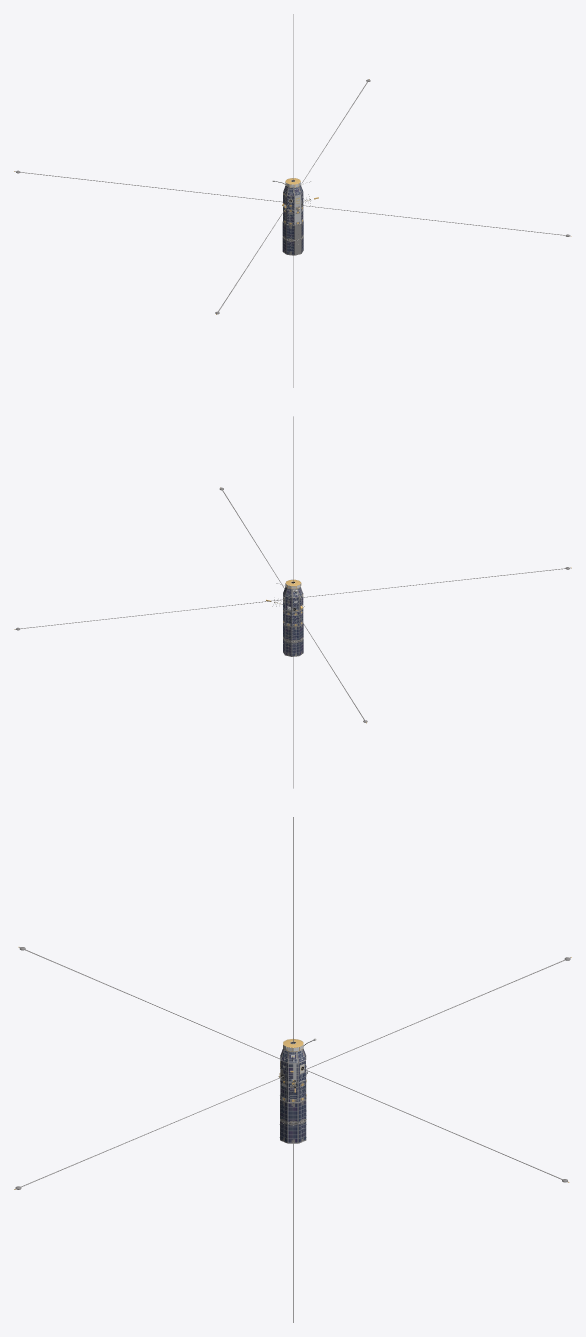
File: cnofs.glb
The picture shows the model from 3 angles, top to bottom: view 1: azimuth 30°, elevation 25°; view 2: azimuth 150°, elevation 25°; view 3: azimuth 270°, elevation 25°; orthographic projection. The views are drawn at different scales.
Parts seen in each view (by area): view 1: cnofs; view 2: cnofs; view 3: cnofs.
Part boxes in pixels (left/top/right/bottom): cnofs: left=14, top=14, right=571, bottom=387; cnofs: left=14, top=416, right=571, bottom=788; cnofs: left=14, top=817, right=571, bottom=1322.
Size of the model in its own units: 20 by 20 by 20.
Materials: 9 (1 with a texture image).
